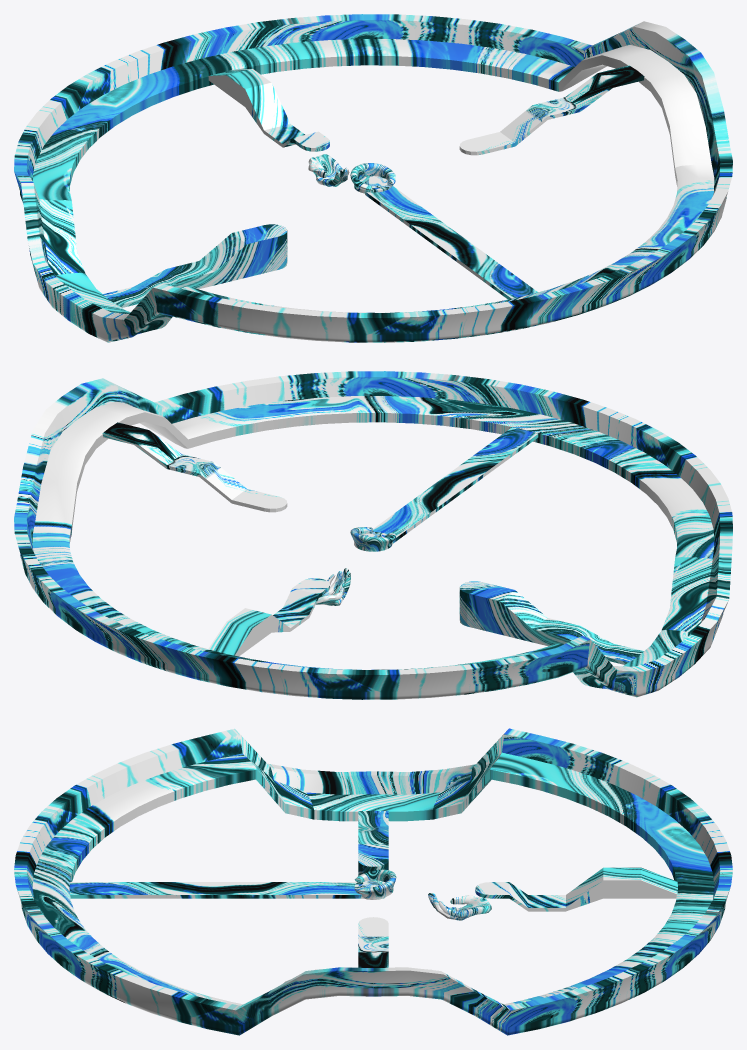
Rendered from 02_wheel of nyx easy.fbx.
3 views of the same model, one above another, from view 1: azimuth 30°, elevation 25°; view 2: azimuth 150°, elevation 25°; view 3: azimuth 270°, elevation 25° (orthographic).
Visible parts, largest first — view 1: Circle.007, Plane.008, Plane.009, Plane.011, Circle.006, Plane.007; view 2: Circle.007, Plane.008, Plane.009, Plane.011, Circle.006, Plane.007; view 3: Circle.007, Plane.008, Plane.009, Plane.011, Plane.007, Circle.006.
Boxes of the visible parts, box(x1,y1,x2,y2) form: Circle.007: box(14, 14, 732, 342); Plane.008: box(208, 69, 537, 299); Plane.009: box(103, 224, 287, 307); Plane.011: box(459, 65, 644, 155); Circle.006: box(350, 163, 395, 193); Plane.007: box(308, 154, 349, 186); Circle.007: box(14, 371, 732, 699); Plane.008: box(208, 427, 538, 656); Plane.009: box(459, 581, 643, 664); Plane.011: box(102, 422, 287, 512); Circle.006: box(350, 527, 395, 551); Plane.007: box(316, 568, 350, 605); Circle.007: box(14, 728, 732, 1035); Plane.008: box(69, 867, 677, 911); Plane.009: box(358, 810, 388, 899); Plane.011: box(358, 917, 388, 967); Plane.007: box(428, 893, 491, 920); Circle.006: box(354, 869, 396, 898).
Bounding box in the file's own units: 34.64 × 7.04 × 34.64.
